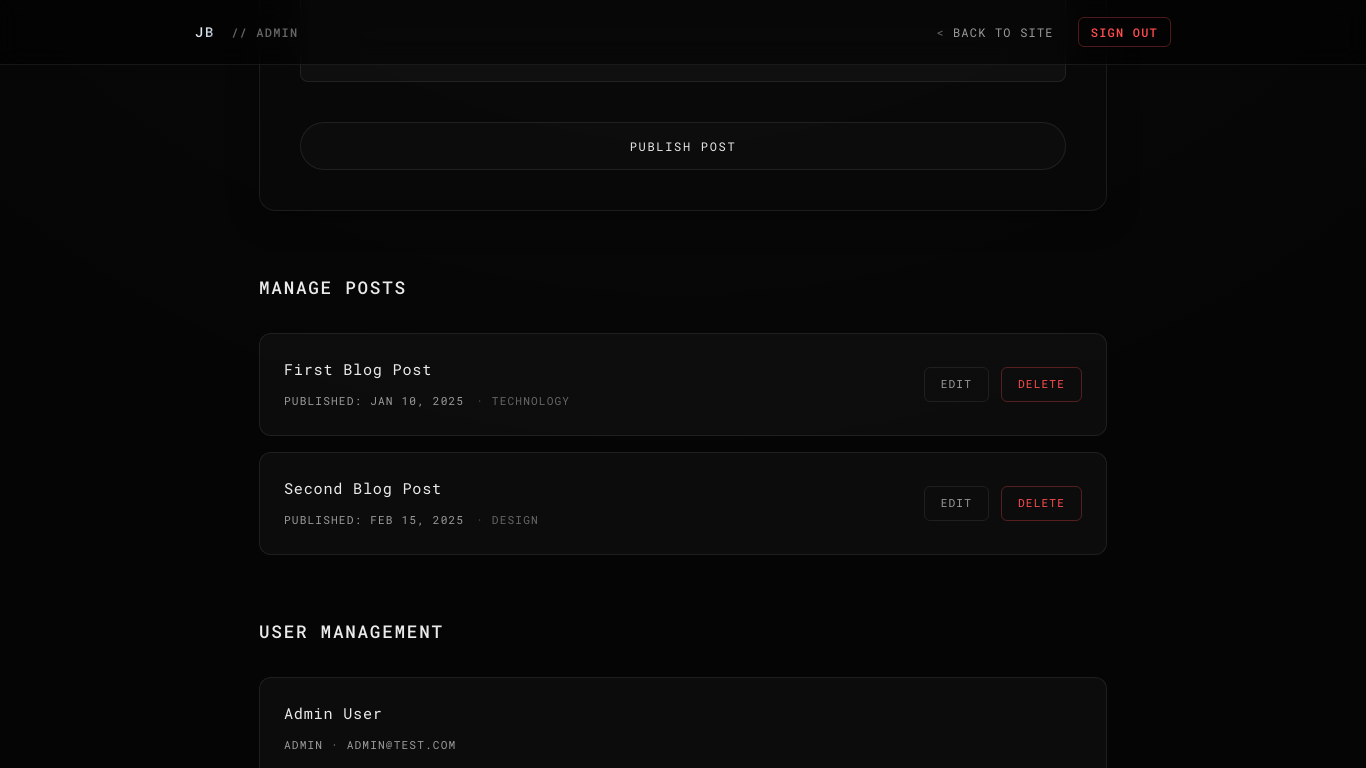
Test: AdminDashboard › clicking DELETE with confirm=true removes the post from the list
This screenshot has width=1366, height=768.
(page scrolled)
Expected: the heading "First Blog Post" is shown, [284,359,432,379]
Click the button "DELETE" in the row of "Technology". click: point(1042, 384)
box: [1001,367,1082,402]
(page scrolled)
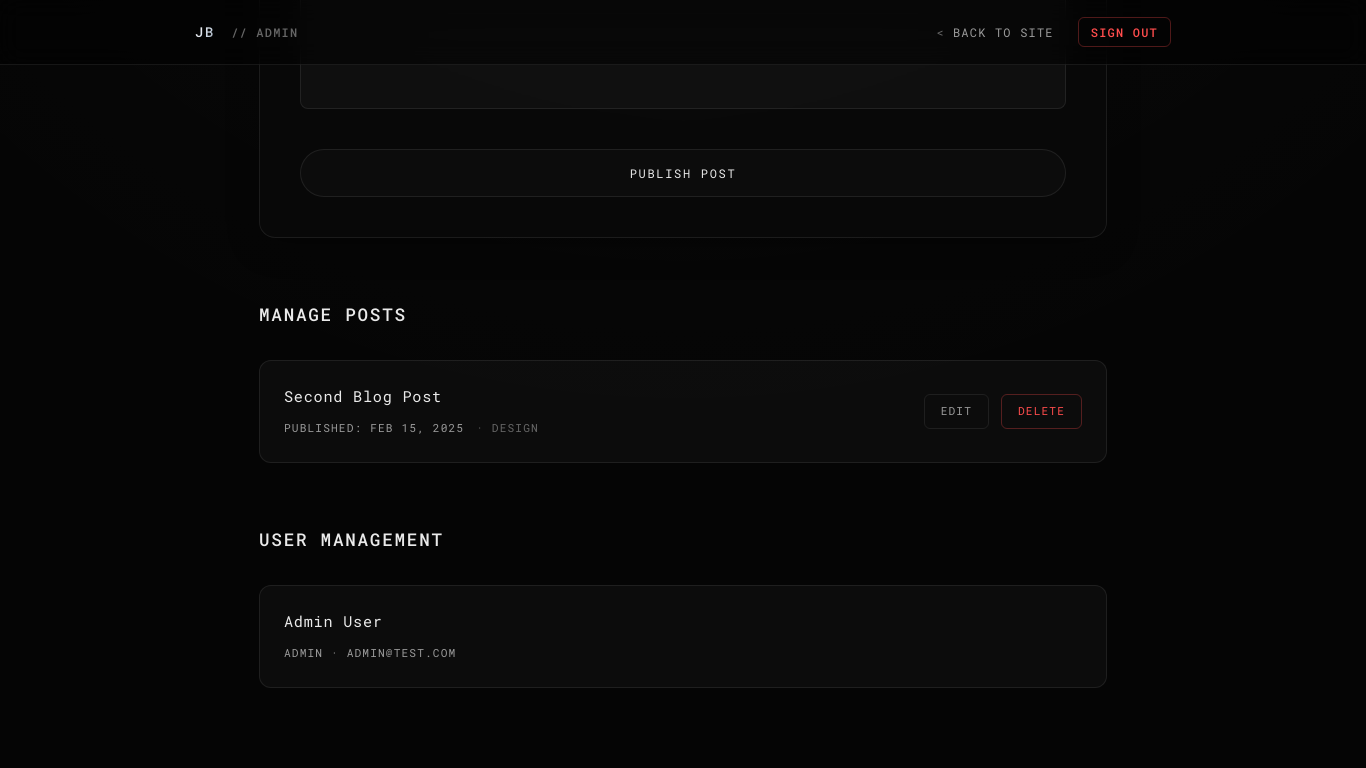
Expected: the heading "First Blog Post" is gone
